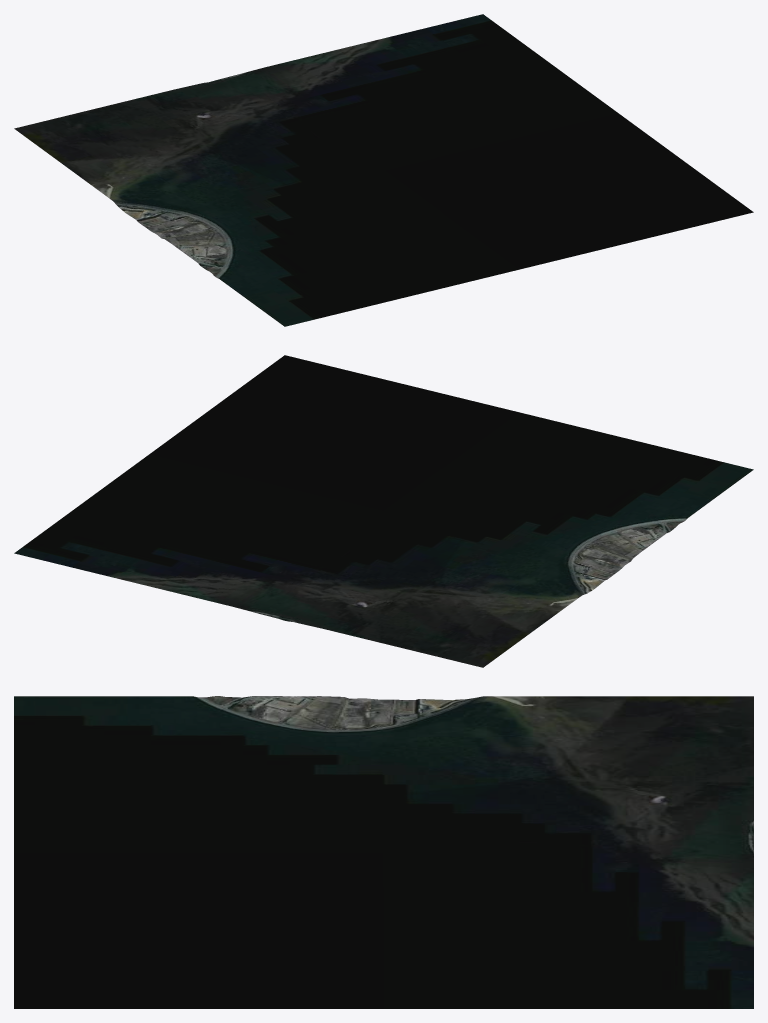
The model's file is map_10_253_426.dae.
3 renders of one model, top to bottom at view 1: azimuth 30°, elevation 25°; view 2: azimuth 150°, elevation 25°; view 3: azimuth 270°, elevation 25°, orthographic. The views are drawn at different scales.
Visible parts, largest first — view 1: Ter0; view 2: Ter0; view 3: Ter0.
Boxes of the visible parts, x1=… form: Ter0: x1=14, y1=14, x2=753, y2=326; Ter0: x1=14, y1=355, x2=753, y2=667; Ter0: x1=14, y1=696, x2=753, y2=1008.
Size of the model in its own units: 2044 by 2044 by 12.25.
Materials: 4 (4 with a texture image).
